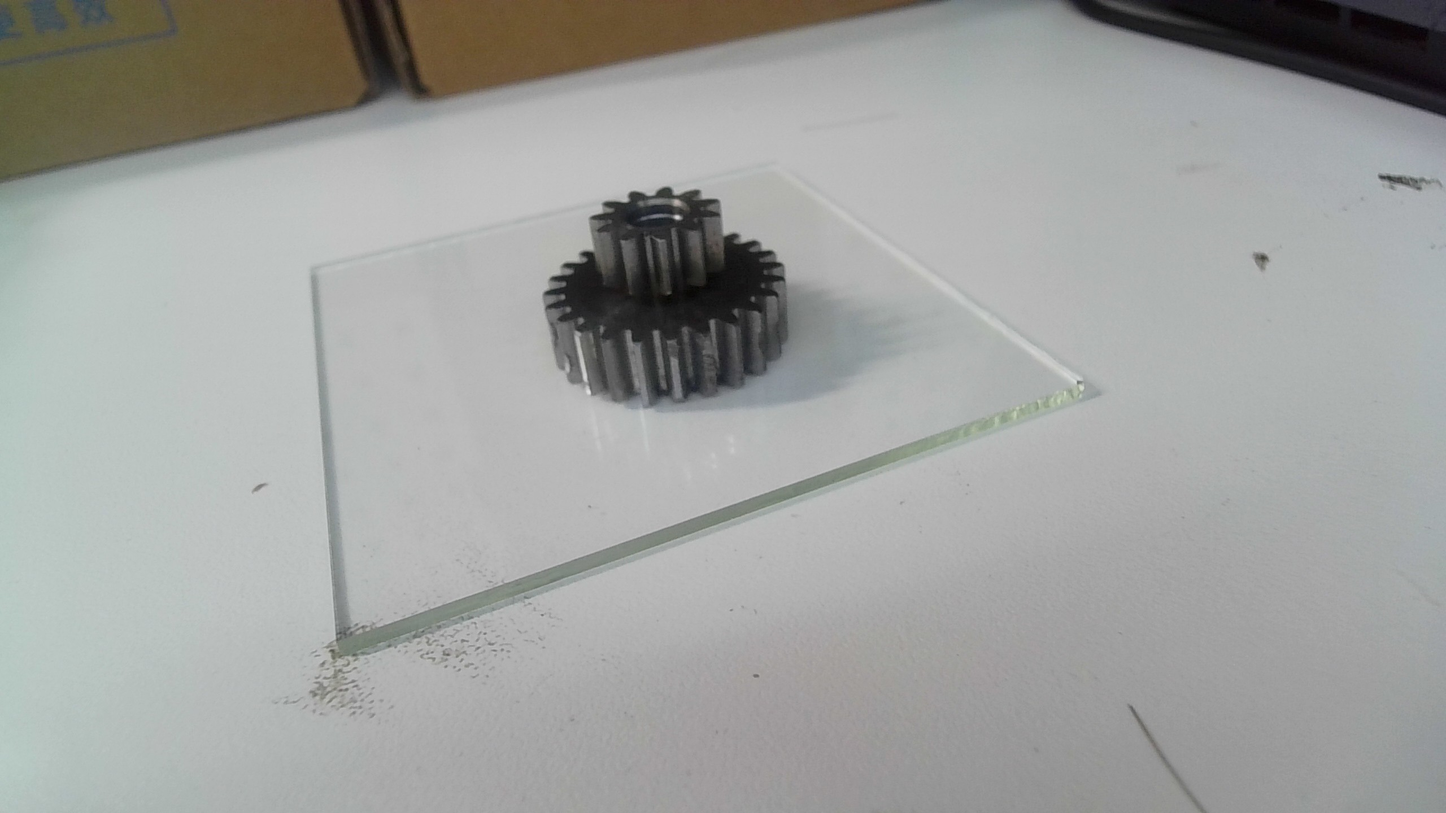gear: (539, 182, 792, 411)
